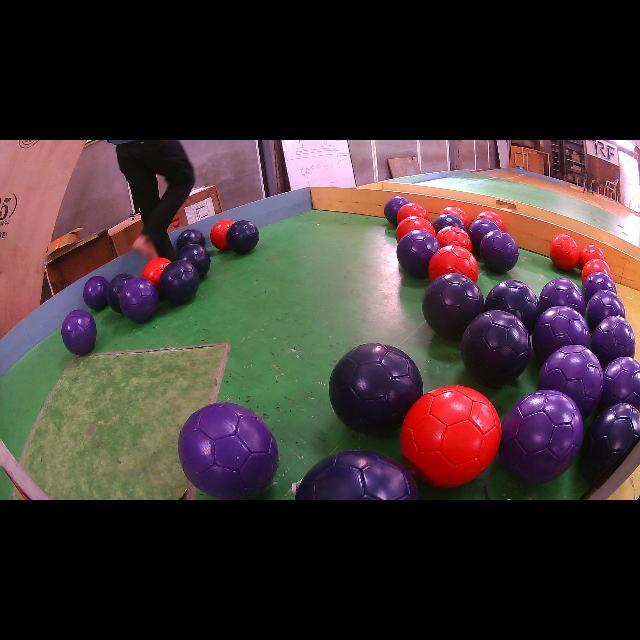B: (178, 402, 279, 499), (329, 342, 422, 436), (295, 450, 419, 500), (460, 310, 531, 388), (581, 402, 640, 479), (422, 272, 484, 340), (484, 280, 540, 334), (160, 260, 200, 305), (176, 244, 210, 279), (226, 220, 259, 254), (106, 274, 134, 314), (176, 229, 205, 250)
P: (178, 402, 279, 499), (500, 390, 584, 484), (538, 345, 604, 418), (532, 306, 590, 362), (590, 316, 636, 368), (600, 356, 640, 409), (396, 230, 440, 278), (119, 278, 159, 322), (539, 278, 585, 316), (586, 290, 625, 334), (479, 230, 519, 272), (61, 309, 96, 355), (582, 271, 616, 304), (468, 219, 500, 254), (82, 276, 109, 310), (384, 196, 410, 226), (432, 214, 466, 234)
R: (400, 385, 501, 488), (429, 245, 479, 282), (141, 258, 170, 296), (550, 235, 579, 270), (396, 216, 435, 242), (436, 226, 472, 252), (210, 220, 234, 250), (581, 259, 612, 282), (398, 202, 430, 224), (441, 206, 470, 228), (579, 245, 605, 269), (475, 211, 505, 231)
